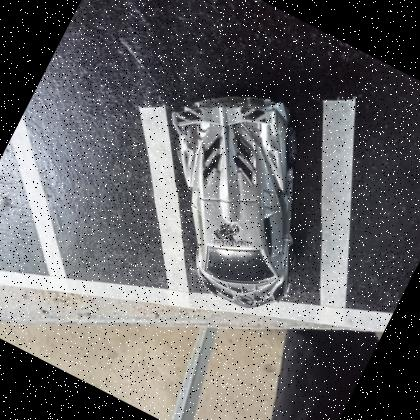Car: (175, 93, 299, 308)
